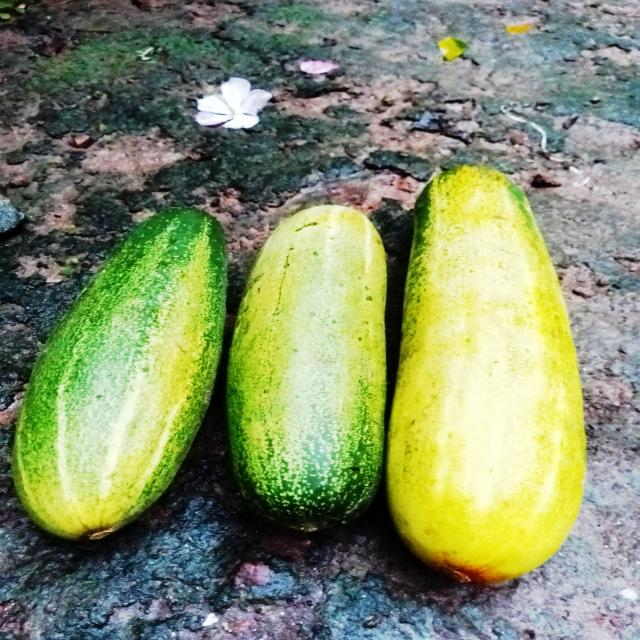Fresh-Cucumber: (386, 156, 588, 585), (10, 200, 231, 542), (230, 199, 391, 532)
